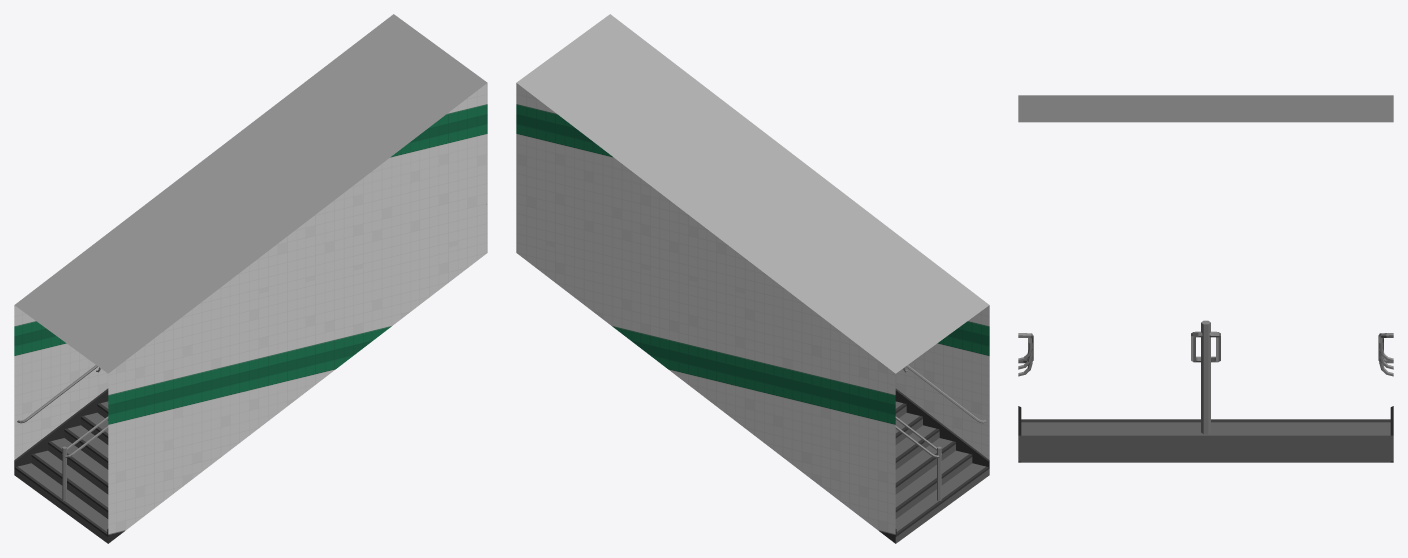
File: SM_Train_Subway_Station_Steps.fbx
3 views of the same model, side by side, from view 1: azimuth 30°, elevation 25°; view 2: azimuth 150°, elevation 25°; view 3: azimuth 270°, elevation 25° (orthographic). The views are drawn at different scales.
Visible parts, largest first — view 1: SM_Train_Subway_Station_Steps; view 2: SM_Train_Subway_Station_Steps; view 3: SM_Train_Subway_Station_Steps.
Part boxes in pixels (left/top/right/bottom): SM_Train_Subway_Station_Steps: left=14, top=14, right=487, bottom=543; SM_Train_Subway_Station_Steps: left=516, top=14, right=989, bottom=543; SM_Train_Subway_Station_Steps: left=1018, top=95, right=1393, bottom=462.
Bounding box in the file's own units: 700 × 650 × 300.
